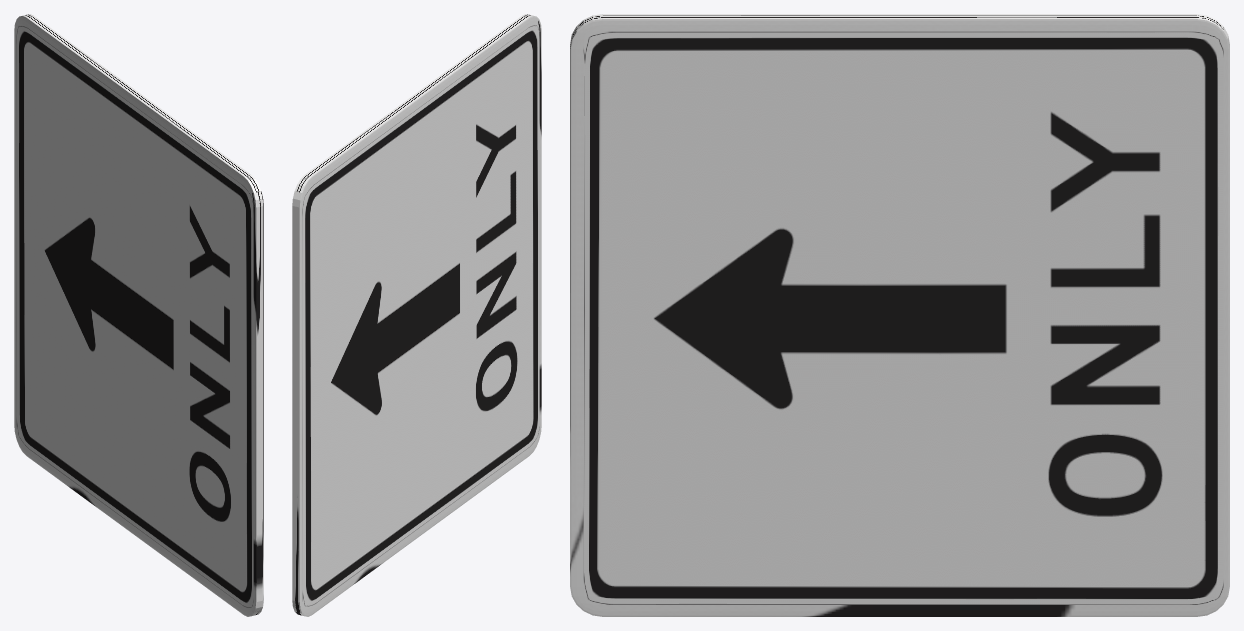
Rendered from square.obj.
3 renders of one model, left to right at view 1: azimuth 30°, elevation 25°; view 2: azimuth 150°, elevation 25°; view 3: azimuth 270°, elevation 25°, orthographic. The views are drawn at different scales.
Visible parts, largest first — view 1: Cube; view 2: Cube; view 3: Cube.
Boxes of the visible parts, box(x1,y1,x2,y2) form: Cube: box(14, 14, 263, 616); Cube: box(292, 14, 541, 616); Cube: box(570, 14, 1229, 616).
Size of the model in its own units: 0.02 by 1 by 1.
